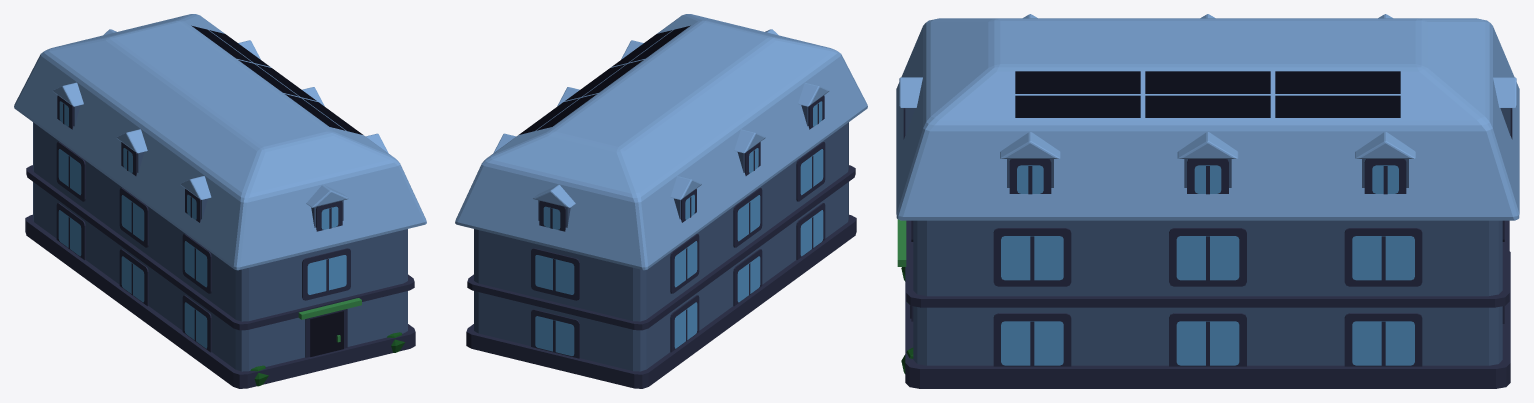
The model's file is house-1x2-2f-mansard-b-solar.glb.
The picture shows the model from 3 angles, left to right: view 1: azimuth 30°, elevation 25°; view 2: azimuth 150°, elevation 25°; view 3: azimuth 270°, elevation 25°; orthographic projection. The views are drawn at different scales.
Visible parts, largest first — view 1: house-1x2-2f-mansard-b-solar; view 2: house-1x2-2f-mansard-b-solar; view 3: house-1x2-2f-mansard-b-solar.
Boxes of the visible parts, x1,y1,x2,y2 form: house-1x2-2f-mansard-b-solar: [14, 14, 426, 388]; house-1x2-2f-mansard-b-solar: [455, 14, 867, 388]; house-1x2-2f-mansard-b-solar: [896, 14, 1519, 388].
Size of the model in its own units: 0.9876 by 1 by 1.99.
1 material, 1 textured.
